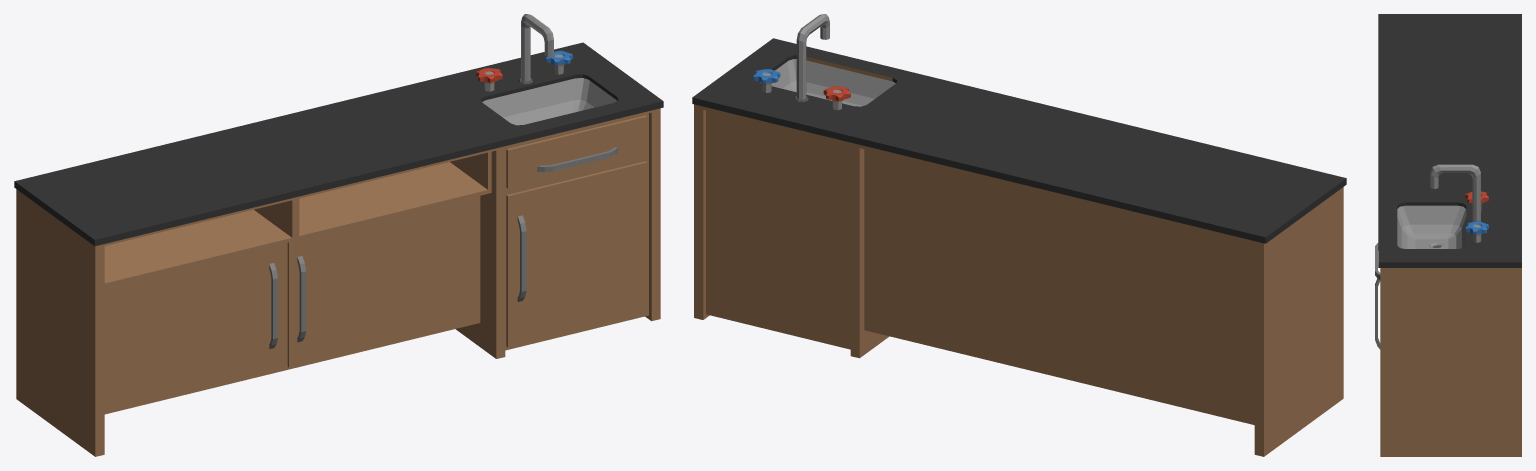
File: Int_ScienceDesk01_2.fbx
3 renders of one model, left to right at view 1: azimuth 30°, elevation 25°; view 2: azimuth 150°, elevation 25°; view 3: azimuth 270°, elevation 25°, orthographic. The views are drawn at different scales.
Visible parts, largest first — view 1: Int_ScienceDesk01_2; view 2: Int_ScienceDesk01_2; view 3: Int_ScienceDesk01_2.
Boxes of the visible parts, box(x1,y1,x2,y2) form: Int_ScienceDesk01_2: box(14, 14, 663, 456); Int_ScienceDesk01_2: box(692, 14, 1346, 456); Int_ScienceDesk01_2: box(1375, 14, 1521, 456).
Size of what is drawn, in the model's own units: 300 by 75 by 145.
